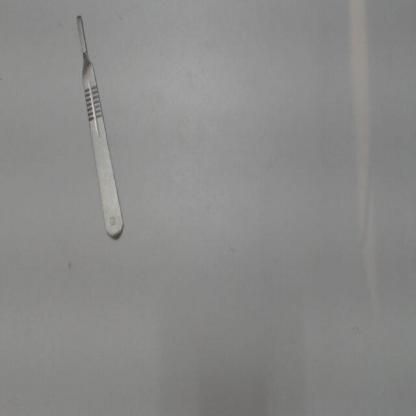No.4 BP Handle: (66, 3, 130, 248)
